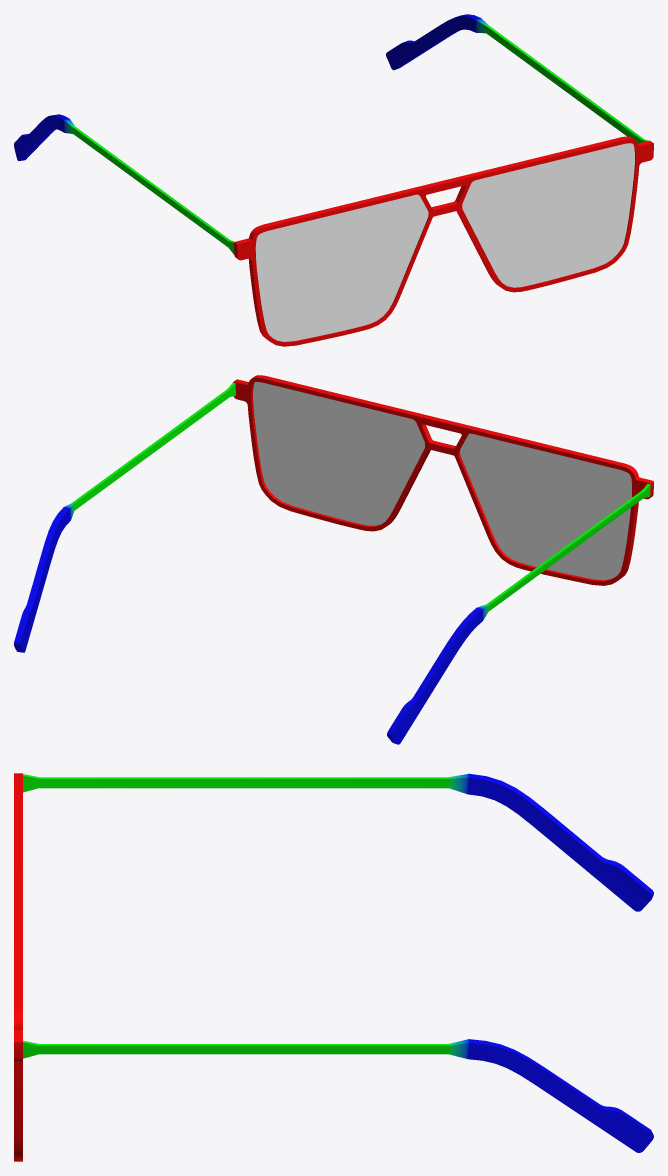
Rendered from ZAIS NeoRetro Glasses.fbx.
3 renders of one model, top to bottom at view 1: azimuth 30°, elevation 25°; view 2: azimuth 150°, elevation 25°; view 3: azimuth 270°, elevation 25°, orthographic. The views are drawn at different scales.
Visible parts, largest first — view 1: Geiss NeoRetro Frames; view 2: Geiss NeoRetro Frames; view 3: Geiss NeoRetro Frames.
Boxes of the visible parts, left/top/right/bottom form: Geiss NeoRetro Frames: left=14, top=14, right=653, bottom=346; Geiss NeoRetro Frames: left=14, top=375, right=653, bottom=744; Geiss NeoRetro Frames: left=14, top=773, right=653, bottom=1161.
Size of the model in its own units: 0.163 by 0.0474 by 0.1636.
